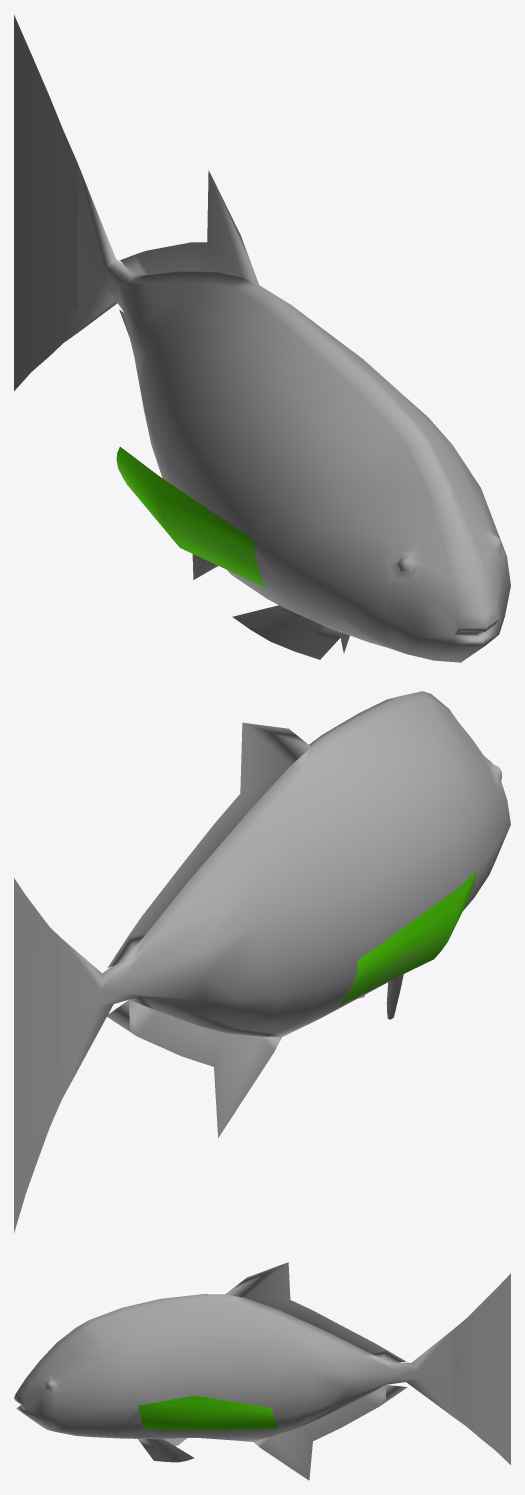
Rendered from Carangidae_A_S.fbx.
3 views of the same model, one above another, from view 1: azimuth 30°, elevation 25°; view 2: azimuth 150°, elevation 25°; view 3: azimuth 270°, elevation 25° (orthographic). The views are drawn at different scales.
Parts seen in each view (by area): view 1: Carangidae_A_S_Mesh; view 2: Carangidae_A_S_Mesh; view 3: Carangidae_A_S_Mesh.
Boxes of the visible parts, box(x1,y1,x2,y2) form: Carangidae_A_S_Mesh: box(14, 15, 510, 662); Carangidae_A_S_Mesh: box(14, 691, 510, 1232); Carangidae_A_S_Mesh: box(14, 1262, 510, 1480).
Size of the model in its own units: 0.00314 by 0.00496 by 0.0103.
